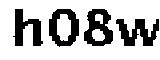0: (46, 7, 82, 51)
8: (82, 6, 114, 49)
h: (10, 6, 45, 49)
w: (114, 13, 160, 51)
